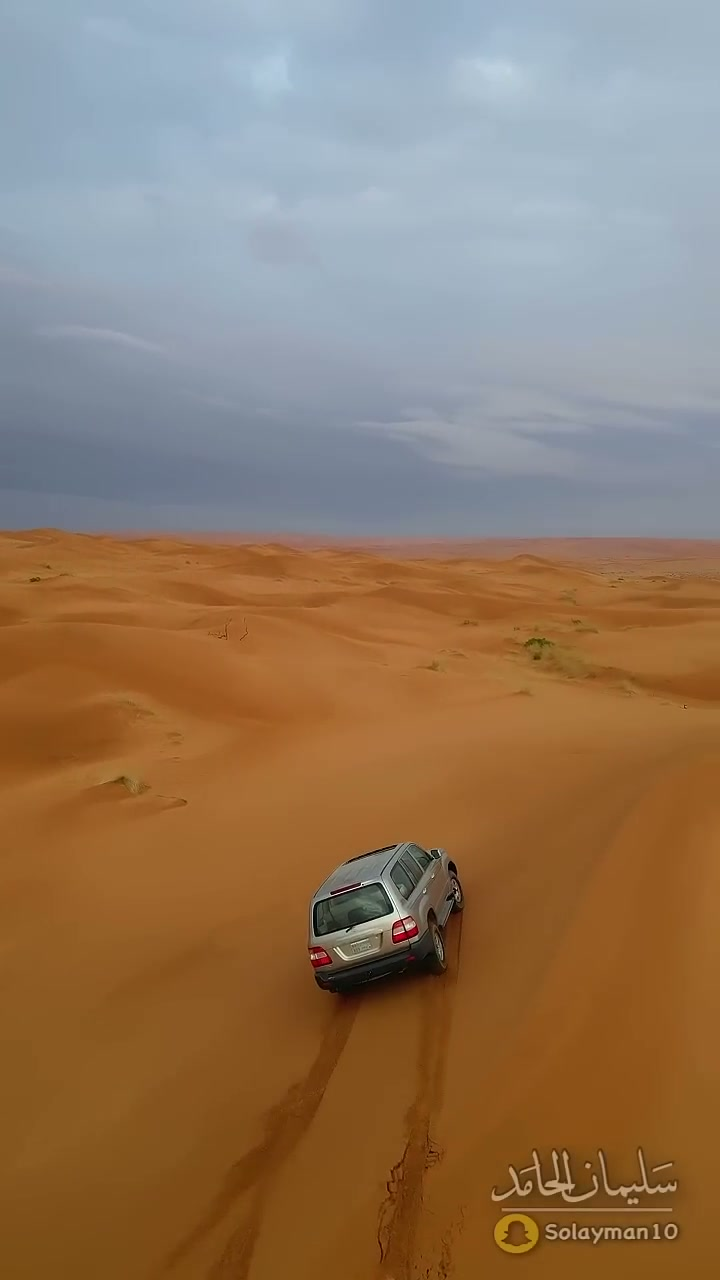vehicle_track: (162, 1001, 356, 1279), (377, 915, 462, 1279)
